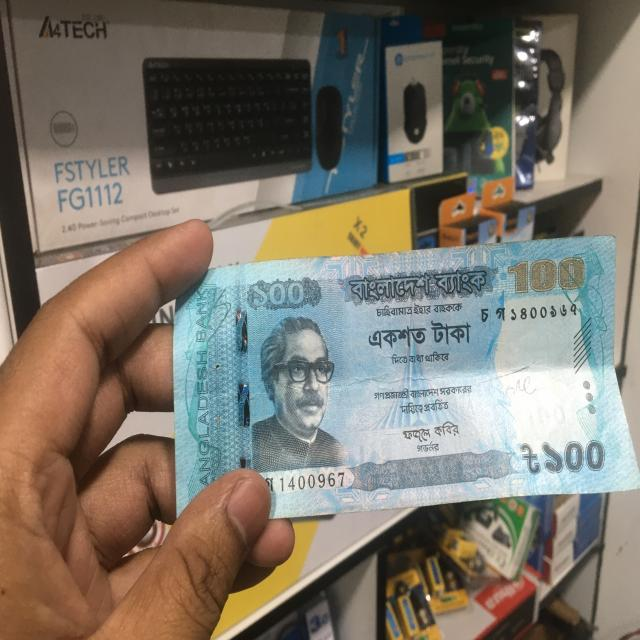Taka: (177, 257, 633, 500)
